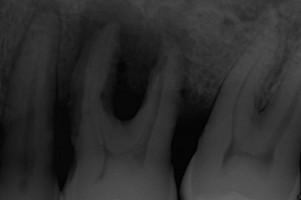Dental Caries: (75, 0, 196, 122)
